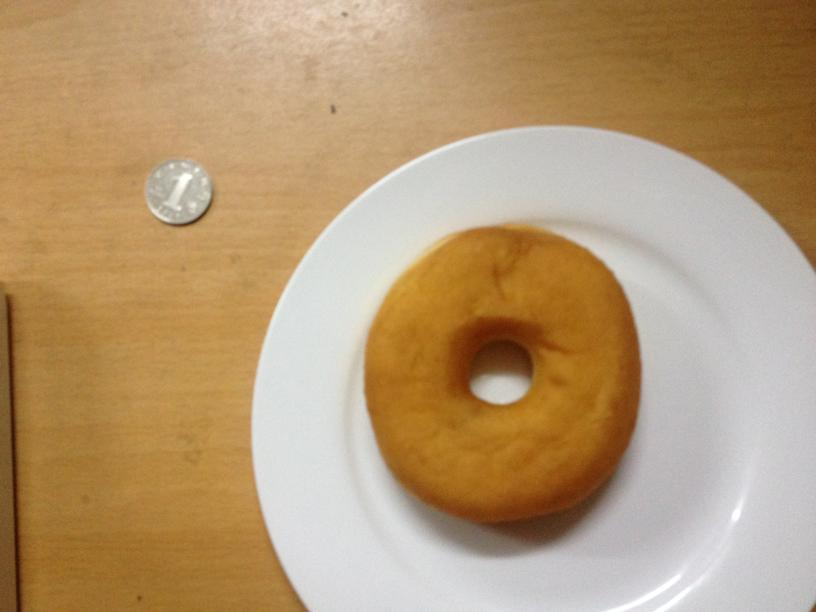coin: (141, 158, 211, 225)
doughnut: (360, 223, 639, 521)
